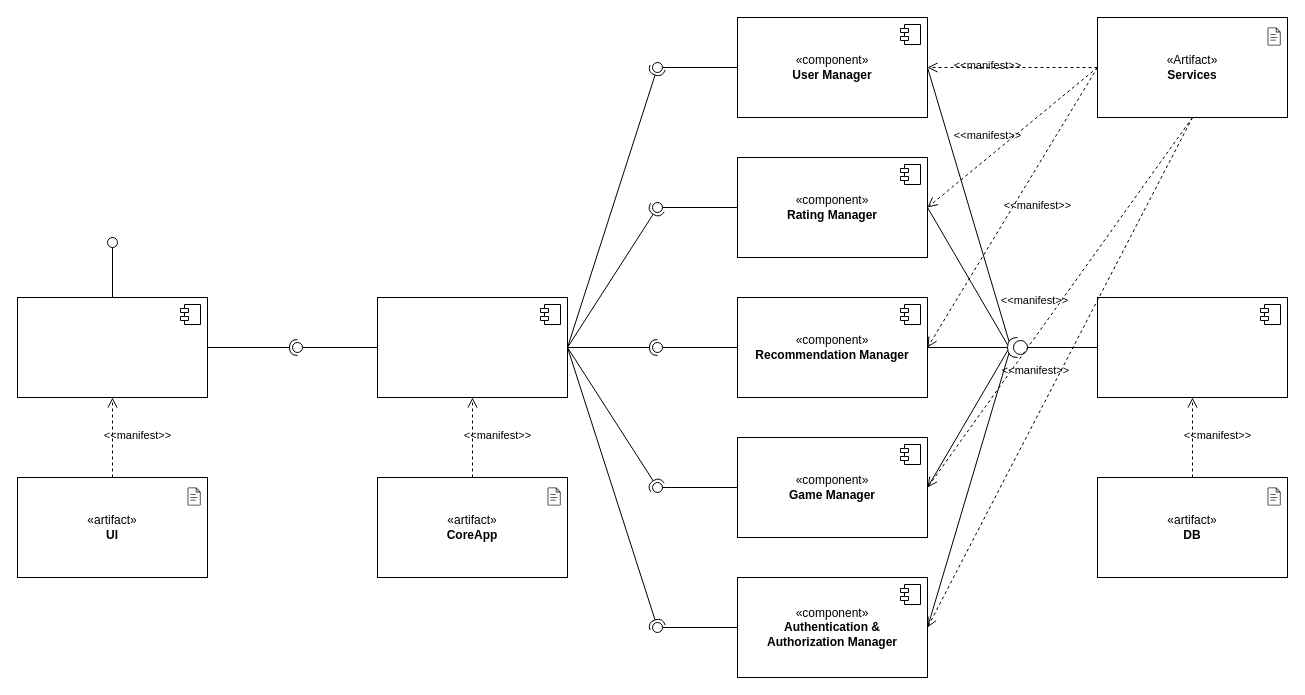
Some shapes in this 1305 by 695 pixel diagram are drawn without their labels. Each missing label, with the centre of its shape:
«component» Core: the point at 472,347
«component» Database: the point at 1192,347
«component» User Interface: the point at 112,347
